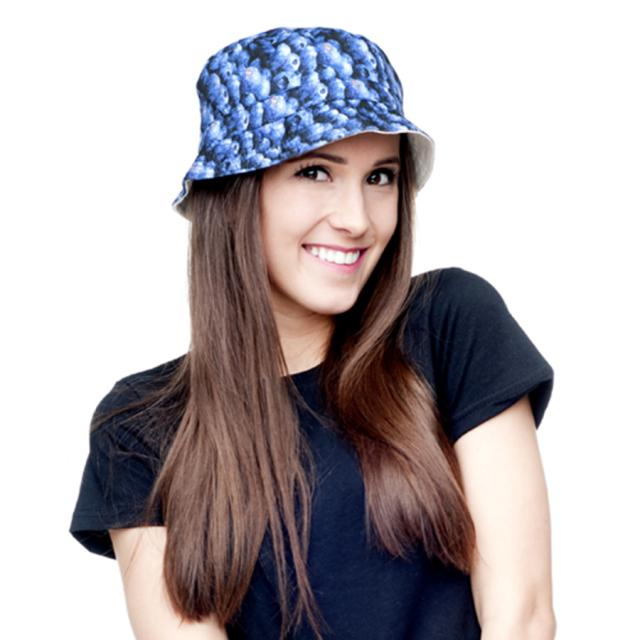hat: (172, 25, 435, 323)
